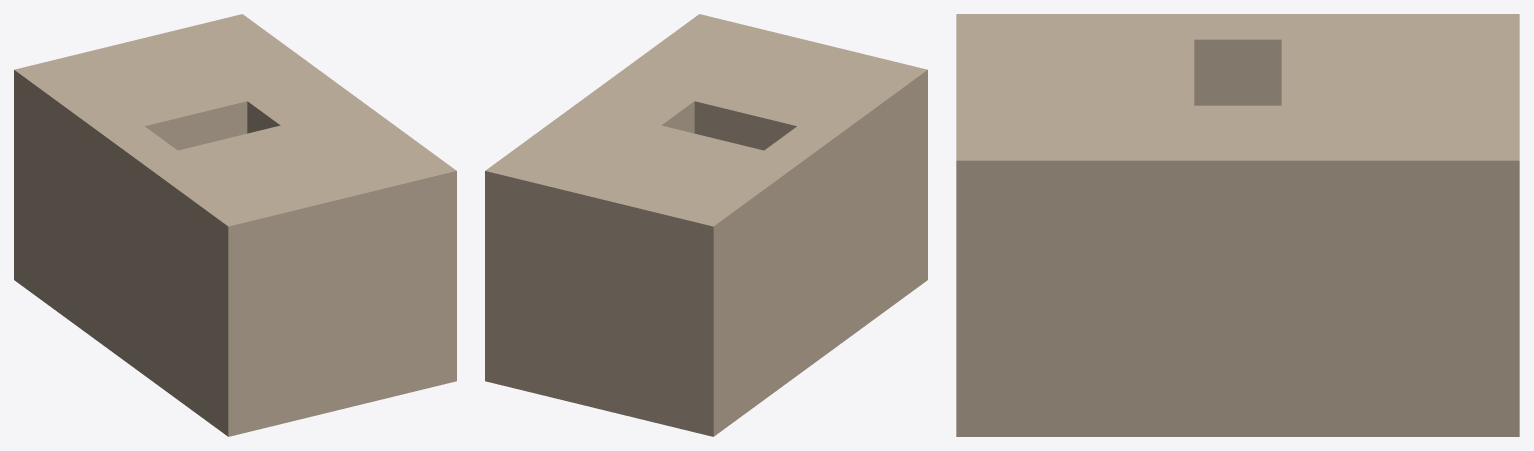
File: massing.glb
The picture shows the model from 3 angles, left to right: view 1: azimuth 30°, elevation 25°; view 2: azimuth 150°, elevation 25°; view 3: azimuth 270°, elevation 25°; orthographic projection. The views are drawn at different scales.
Visible parts, largest first — view 1: building/exterior; view 2: building/exterior; view 3: building/exterior.
Part boxes in pixels (left/top/right/bottom): building/exterior: left=14, top=14, right=456, bottom=436; building/exterior: left=485, top=14, right=927, bottom=436; building/exterior: left=956, top=14, right=1519, bottom=436.
Bounding box in the file's own units: 10 × 8.8 × 16.25.
